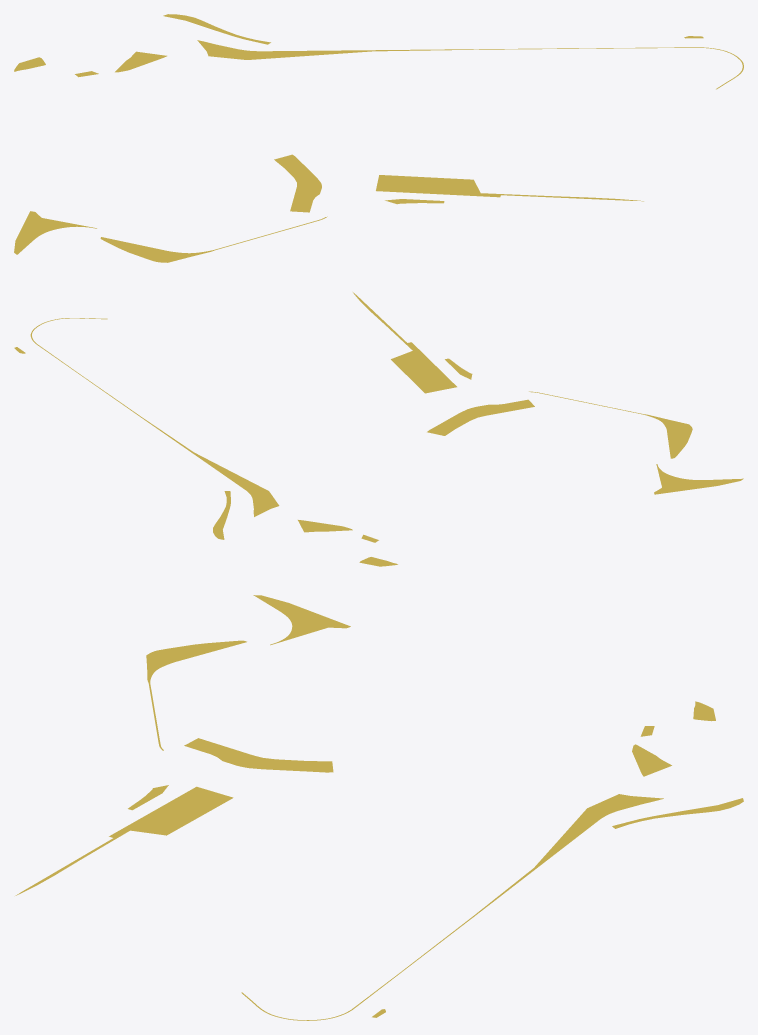
File: soil_01.FBX
3 renders of one model, top to bottom at view 1: azimuth 30°, elevation 25°; view 2: azimuth 150°, elevation 25°; view 3: azimuth 270°, elevation 25°, orthographic. The views are drawn at different scales.
Parts seen in each view (by area): view 1: soil; view 2: soil; view 3: soil.
Part boxes in pixels (x1=…): soil: x1=14, y1=14, x2=743, y2=262; soil: x1=14, y1=292, x2=743, y2=566; soil: x1=15, y1=595, x2=743, y2=1020.
Bounding box in the file's own units: 81526 × 5 × 59083.
